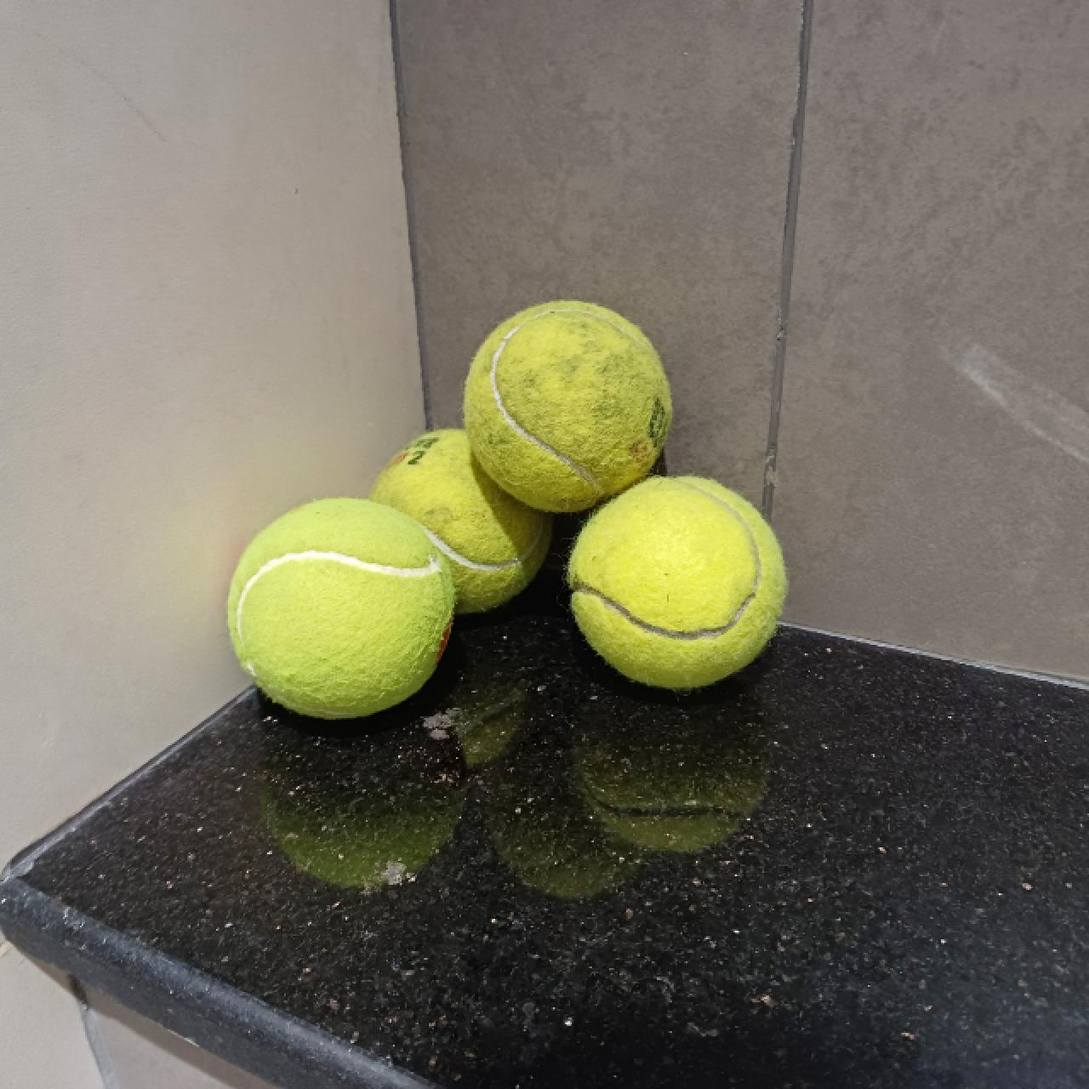tennis-ball: (224, 497, 458, 723), (563, 473, 792, 690), (461, 297, 677, 515), (371, 427, 555, 614)
